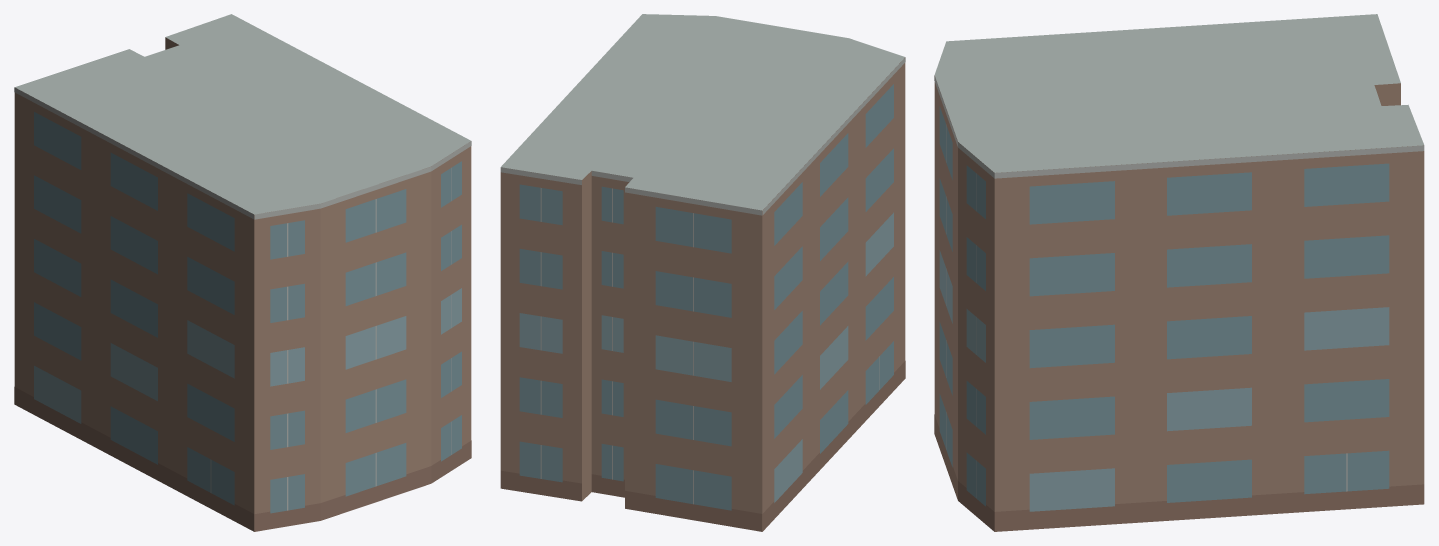
Rendered from survey-upis-32487248.glb.
3 renders of one model, left to right at view 1: azimuth 30°, elevation 25°; view 2: azimuth 150°, elevation 25°; view 3: azimuth 270°, elevation 25°, orthographic. The views are drawn at different scales.
Parts seen in each view (by area): view 1: survey-upis-32487248.tmp; view 2: survey-upis-32487248.tmp; view 3: survey-upis-32487248.tmp.
Part boxes in pixels (x1,y1,x2,y2): survey-upis-32487248.tmp: (14,14,471,531); survey-upis-32487248.tmp: (500,14,905,531); survey-upis-32487248.tmp: (934,14,1424,531).
Bounding box in the file's own units: 14.53 × 15.3 × 18.93.
